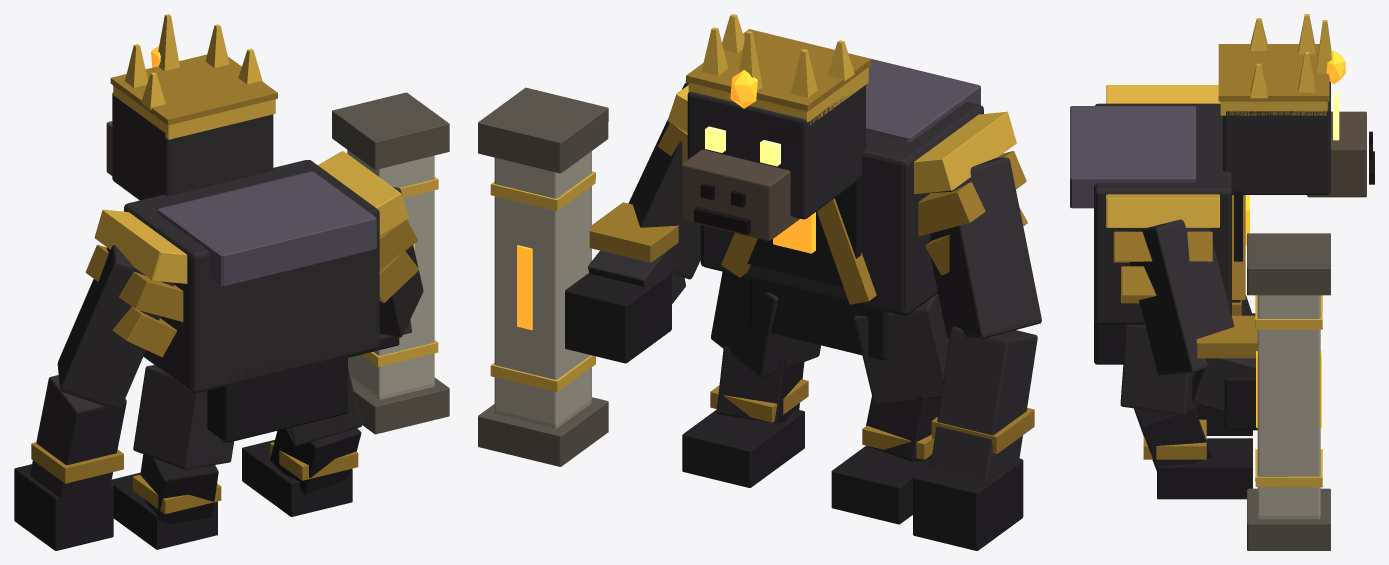
Rendered from gorilla-king.glb.
The picture shows the model from 3 angles, left to right: view 1: azimuth 30°, elevation 25°; view 2: azimuth 150°, elevation 25°; view 3: azimuth 270°, elevation 25°; orthographic projection. The views are drawn at different scales.
Parts seen in each view (by area): view 1: body, head, arm.R, arm.L, leg.FR, leg.FL; view 2: arm.L, body, arm.R, head, leg.FL, leg.FR; view 3: arm.L, body, head, leg.FL, leg.FR.
Part boxes in pixels (x1,y1,x2,y2): body: (85,151,418,442); head: (106,14,277,200); arm.R: (14,245,174,550); arm.L: (332,92,449,434); leg.FR: (111,365,233,549); leg.FL: (242,369,361,516); arm.L: (478,82,700,466); body: (658,59,1027,360); arm.R: (913,157,1041,550); head: (681,14,871,240); leg.FL: (682,272,820,487); leg.FR: (831,293,949,524); arm.L: (1122,219,1330,550); body: (1070,85,1249,364); head: (1218,14,1374,197); leg.FL: (1120,324,1252,499); leg.FR: (1195,405,1252,435).
Bounding box in the file's own units: 0.9998 × 1 × 0.6388.
